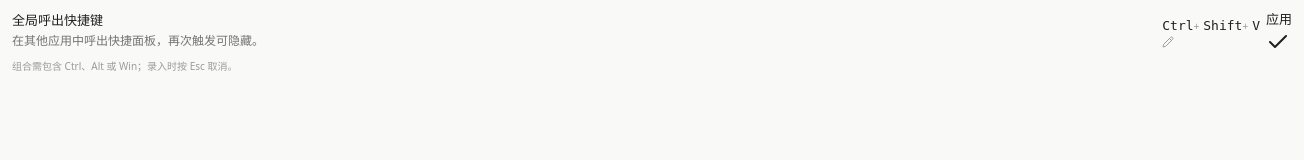
Scenario: HotkeyRecorder › cancels recording with Escape and restores the existing shortcut
Click the button titled "点击后输入新的快捷键组合".
click(1211, 32)  # box [1162,16,1260,48]
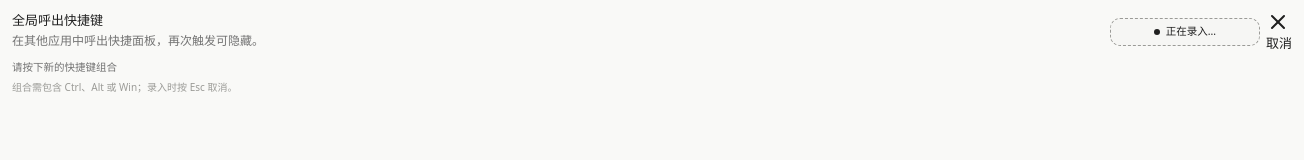
Press Escape
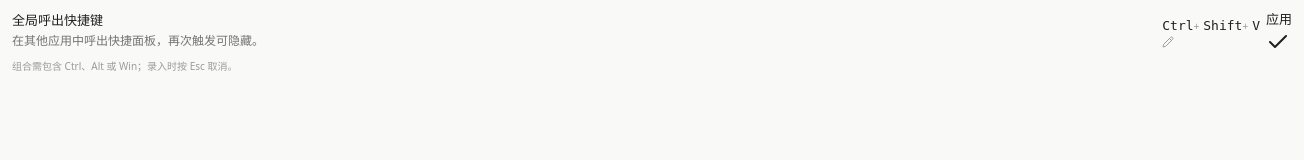
Now the button titled "点击后输入新的快捷键组合" shows "Ctrl", box [1162,16,1260,48]
Now the button "应用" is disabled, box [1266,10,1292,54]
